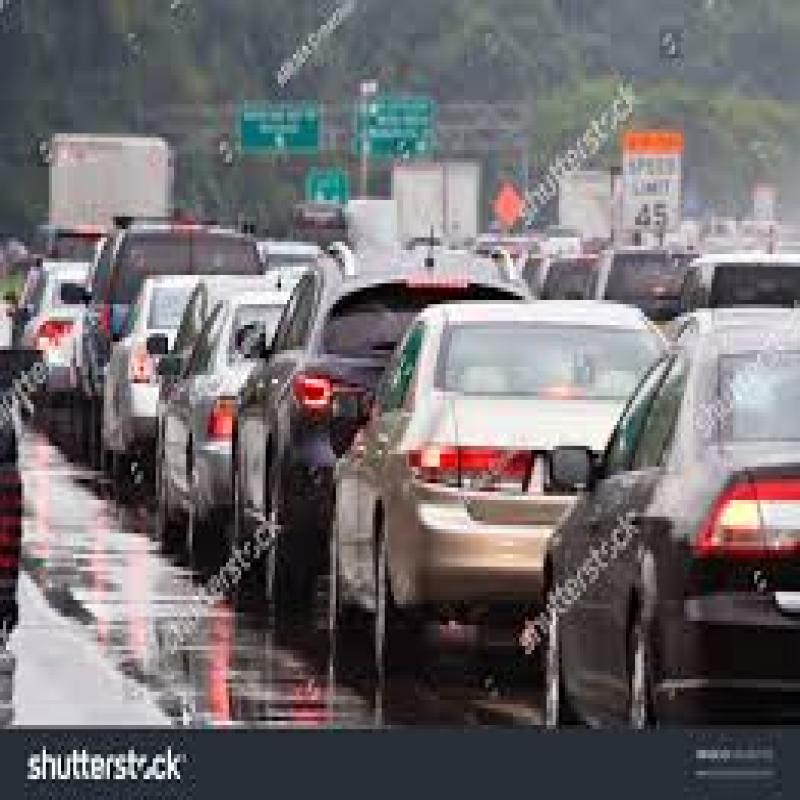car: (333, 290, 671, 712), (543, 314, 800, 702), (242, 255, 467, 582), (83, 214, 257, 433), (172, 268, 276, 505), (111, 240, 211, 468)
